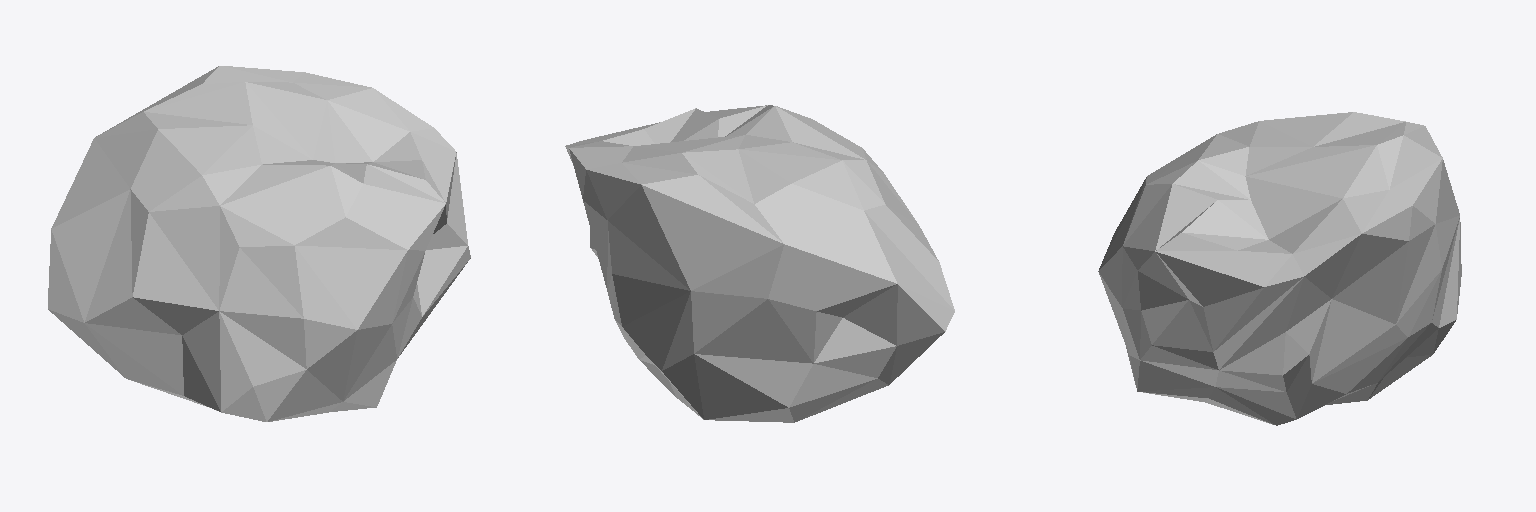
Rendered from GEAR_Coal 1.obj.
3 renders of one model, left to right at view 1: azimuth 30°, elevation 25°; view 2: azimuth 150°, elevation 25°; view 3: azimuth 270°, elevation 25°, orthographic.
Visible parts, largest first — view 1: GEAR_Coal_0; view 2: GEAR_Coal_0; view 3: GEAR_Coal_0.
Part boxes in pixels (x1,y1,x2,y2): GEAR_Coal_0: (48, 66, 470, 421); GEAR_Coal_0: (565, 105, 954, 422); GEAR_Coal_0: (1098, 112, 1461, 425).
Size of the model in its own units: 0.6676 by 0.4283 by 0.5447.